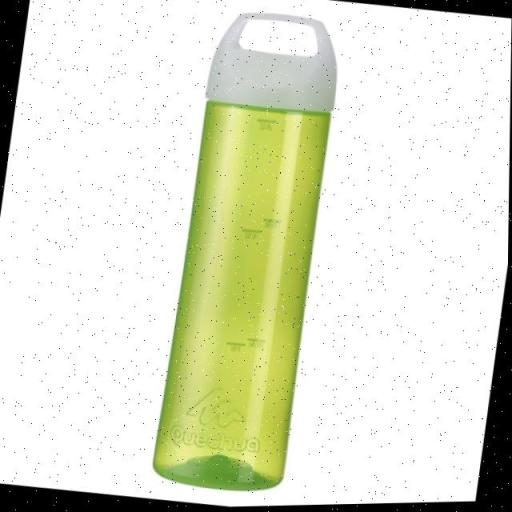plastic: (154, 6, 346, 500)
